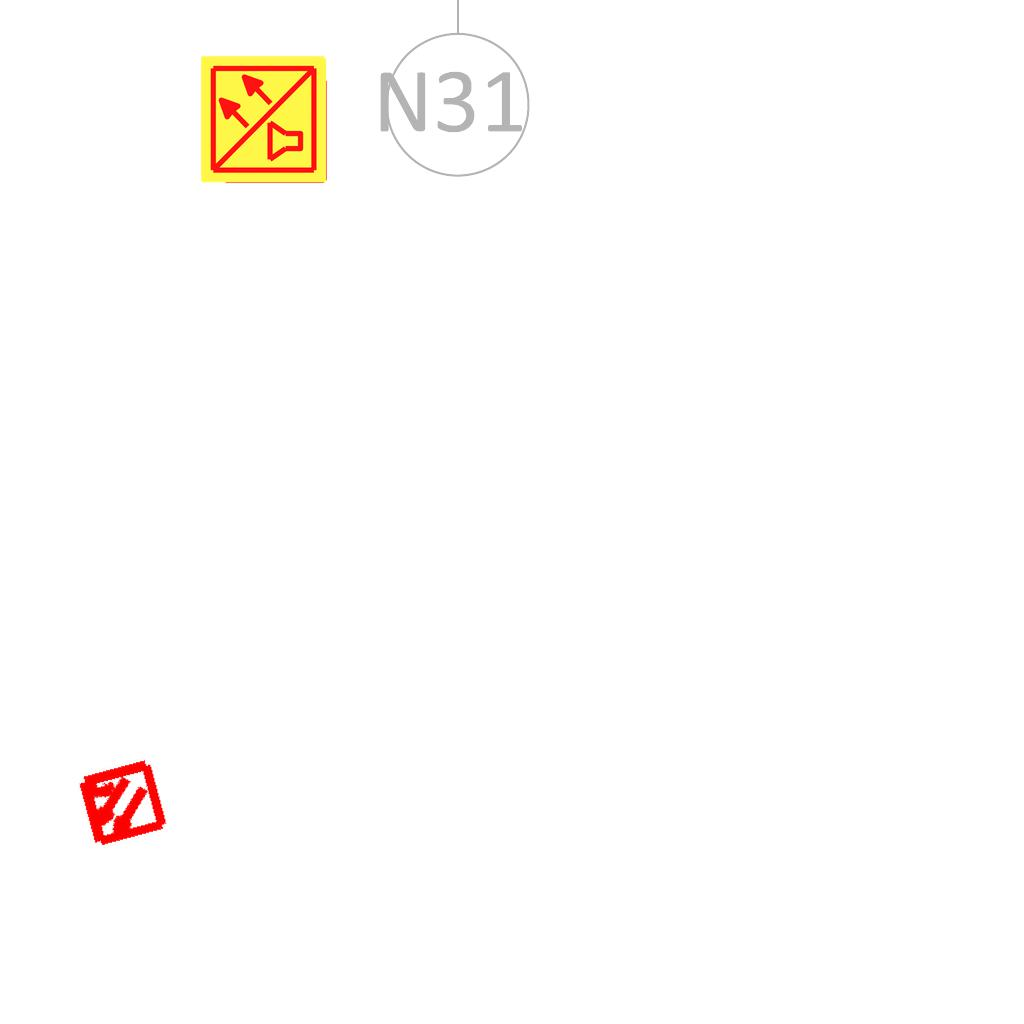OKW_Multisensormelder_(Kombination_optischer_Rauch-Kahlenmonoxid_Waerme-Melder): (198, 53, 330, 185)
OT_Multisensormelder_(Kombination_RMO_WMD): (51, 734, 190, 873)
